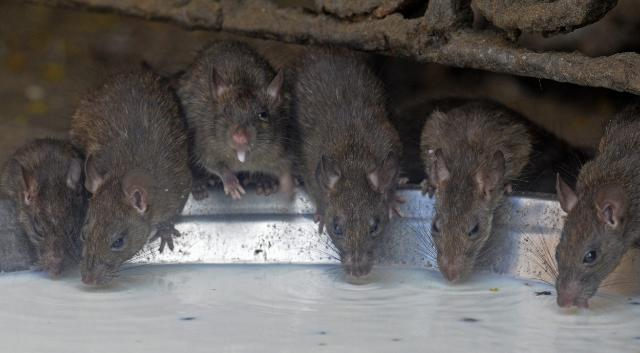rat: (277, 42, 408, 278), (73, 84, 195, 290), (411, 98, 541, 286), (166, 36, 302, 200), (546, 98, 640, 318), (2, 126, 78, 284)
